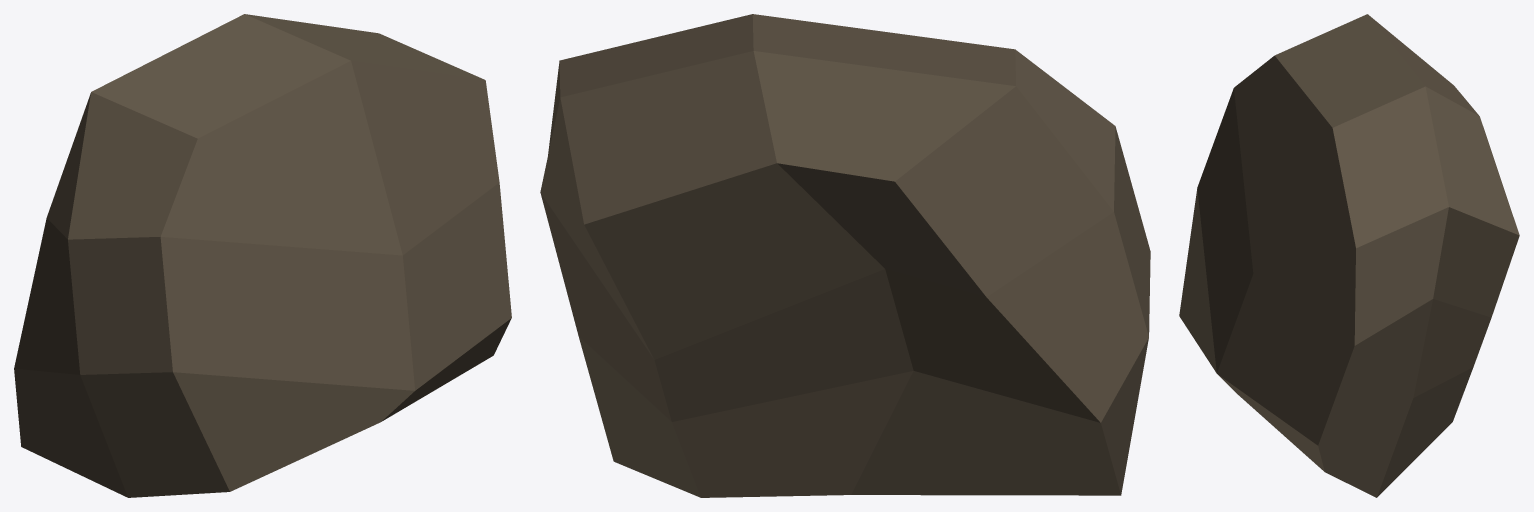
The model's file is Cueva_roca.fbx.
3 views of the same model, side by side, from view 1: azimuth 30°, elevation 25°; view 2: azimuth 150°, elevation 25°; view 3: azimuth 270°, elevation 25° (orthographic). The views are drawn at different scales.
Visible parts, largest first — view 1: Cave.005; view 2: Cave.005; view 3: Cave.005.
Part boxes in pixels (left/top/right/bottom): Cave.005: left=14, top=14, right=511, bottom=497; Cave.005: left=540, top=14, right=1150, bottom=497; Cave.005: left=1179, top=14, right=1519, bottom=497.
Size of the model in its own units: 1571 by 1247 by 1101.
